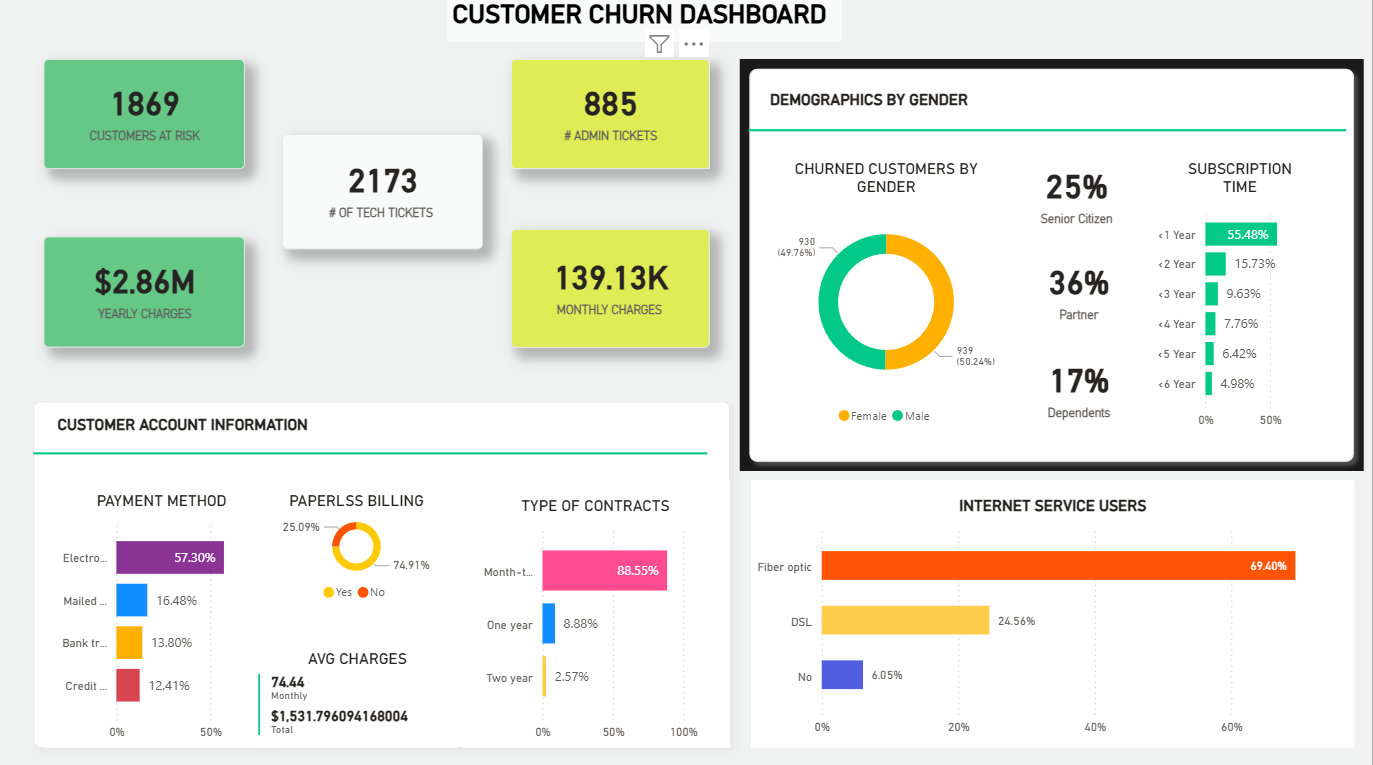

What the dashboard file says about the page in this screenshot:
{"tool":"powerbi","page":{"name":"Churn Dashboard","canvas":[1280,720],"ordinal":0},"visuals":[{"type":"shape","box":[691.9,60.5,580.2,383.7],"z":0,"group":"g1"},{"type":"donutChart","title":"CHURNED CUSTOMERS BY GENDER","fields":{"Category":["01 Churn-Dataset.gender"],"Y":["CountNonNull(01 Churn-Dataset.gender)"]},"box":[715.8,143.6,222.4,271.3],"z":1000,"group":"g1"},{"type":"shape","box":[34.9,350,626.9,154.7],"z":1500,"group":"g2"},{"type":"textbox","box":[419.8,0,367.4,44.2],"z":2000},{"type":"textbox","box":[699.5,72.7,556.4,57.4],"z":2000,"group":"g1"},{"type":"textbox","box":[37,375.6,626.9,44.2],"z":2000,"group":"g2"},{"type":"card","fields":{"Values":["Churn.% of Senior Citizen"]},"box":[953.4,143.6,104,94.1],"z":3000,"group":"g1"},{"type":"shape","box":[25.6,369.8,666.3,340.7],"z":3000},{"type":"card","fields":{"Values":["CountNonNull(01 Churn-Dataset.customerID)"]},"box":[44.2,60.5,187.2,102.3],"z":4000},{"type":"card","fields":{"Values":["Churn.% of partner"]},"box":[952.4,234,110.7,90.4],"z":4000,"group":"g1"},{"type":"shape","box":[699.5,78.8,556.4,95.3],"z":5000,"group":"g1"},{"type":"card","fields":{"Values":["Sum(01 Churn-Dataset.numTechTickets)"]},"box":[266.3,130.2,186,107],"z":6000},{"type":"card","fields":{"Values":["Churn.% of Dependents"]},"box":[952.4,322,110.7,96.5],"z":6000,"group":"g1"},{"type":"clusteredBarChart","title":"SUBSCRIPTION TIME","fields":{"Y":["CountNonNull(Churn.Churn)"],"Category":["Churn.Tenure(in years)"]},"box":[1073.6,143.6,168,267.6],"z":7000,"group":"g1"},{"type":"clusteredBarChart","title":"PAYMENT METHOD","fields":{"Y":["CountNonNull(Churn.PaymentMethod)"],"Category":["Churn.PaymentMethod"]},"box":[44.2,452.3,219.8,248.8],"z":7000},{"type":"card","fields":{"Values":["Sum(01 Churn-Dataset.TotalCharges)"]},"box":[44.2,225.6,187.2,103.5],"z":8000},{"type":"card","fields":{"Values":["Sum(01 Churn-Dataset.numAdminTickets)"]},"box":[479.1,60.5,184.9,102.3],"z":9000},{"type":"group","id":"g1","title":"Group 1","box":[691.9,60.5,580.2,383.7],"z":10000},{"type":"card","fields":{"Values":["Sum(01 Churn-Dataset.MonthlyCharges)"]},"box":[479.1,218.6,184.9,110.5],"z":11000},{"type":"donutChart","title":"PAPERLSS BILLING","fields":{"Category":["Churn.PaperlessBilling"],"Y":["CountNonNull(Churn.PaperlessBilling)"]},"box":[238.4,452.3,194.2,126.7],"z":12000},{"type":"multiRowCard","title":"AVG CHARGES","fields":{"Values":["Avg(Churn.MonthlyCharges)","Avg(Churn.TotalCharges)"]},"box":[238.4,598.8,194.2,102.3],"z":13000},{"type":"clusteredBarChart","title":"TYPE OF CONTRACTS","fields":{"Category":["Churn.Contract"],"Y":["CountNonNull(Churn.Contract)"]},"box":[432.6,452.3,250,248.8],"z":14000},{"type":"group","id":"g2","title":"Group 2","box":[34.9,350,629.1,154.7],"z":15000},{"type":"barChart","title":"INTERNET SERVICE USERS","fields":{"Y":["CountNonNull(Churn.InternetService)"],"Category":["Churn.InternetService"]},"box":[702.3,452.3,561.6,248.8],"z":21000}]}

Visuals, with their boxes in screenshot pixels (x1, y1, x2, y2), scaled from the page's 1280x720 canvas onto the 1373x765 screenshot:
shape: box=[742, 64, 1365, 472]
"CHURNED CUSTOMERS BY GENDER" donutChart: box=[768, 153, 1006, 441]
shape: box=[37, 372, 710, 536]
textbox: box=[450, 0, 844, 47]
textbox: box=[750, 77, 1347, 138]
textbox: box=[40, 399, 712, 446]
card - Churn.% of Senior Citizen: box=[1023, 153, 1134, 253]
shape: box=[27, 393, 742, 755]
card - CountNonNull(01 Churn-Dataset.customerID): box=[47, 64, 248, 173]
card - Churn.% of partner: box=[1022, 249, 1140, 345]
shape: box=[750, 84, 1347, 185]
card - Sum(01 Churn-Dataset.numTechTickets): box=[286, 138, 485, 252]
card - Churn.% of Dependents: box=[1022, 342, 1140, 445]
"SUBSCRIPTION TIME" clusteredBarChart: box=[1152, 153, 1332, 437]
"PAYMENT METHOD" clusteredBarChart: box=[47, 481, 283, 745]
card - Sum(01 Churn-Dataset.TotalCharges): box=[47, 240, 248, 350]
card - Sum(01 Churn-Dataset.numAdminTickets): box=[514, 64, 712, 173]
"Group 1" group: box=[742, 64, 1365, 472]
card - Sum(01 Churn-Dataset.MonthlyCharges): box=[514, 232, 712, 350]
"PAPERLSS BILLING" donutChart: box=[256, 481, 464, 615]
"AVG CHARGES" multiRowCard: box=[256, 636, 464, 745]
"TYPE OF CONTRACTS" clusteredBarChart: box=[464, 481, 732, 745]
"Group 2" group: box=[37, 372, 712, 536]
"INTERNET SERVICE USERS" barChart: box=[753, 481, 1356, 745]
